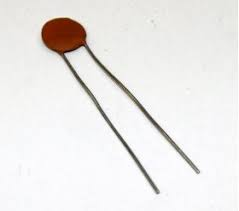ceramic capacitor: (20, 3, 157, 117)
